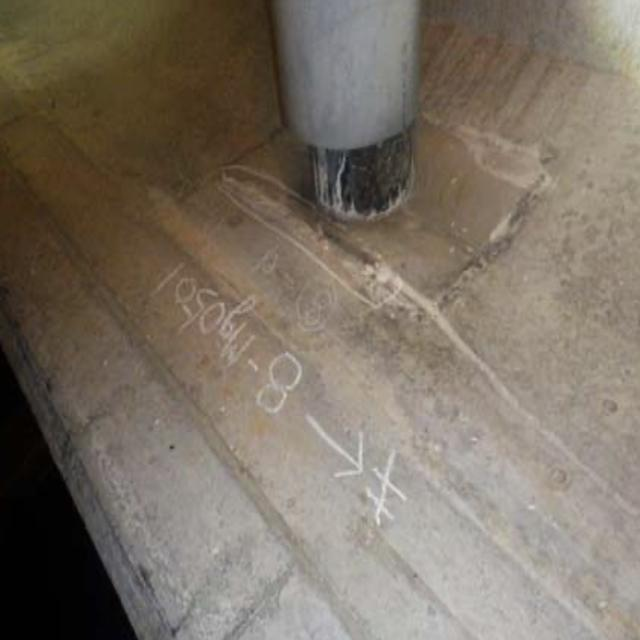freelime: (216, 163, 437, 336)
